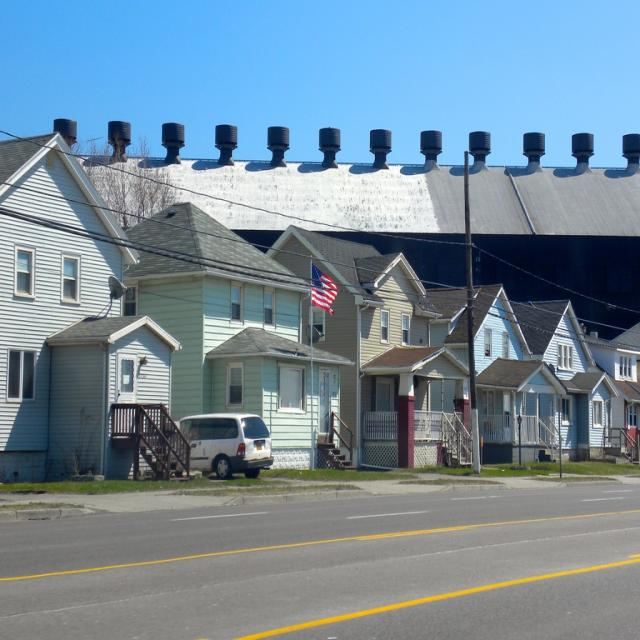car: (144, 412, 276, 480)
